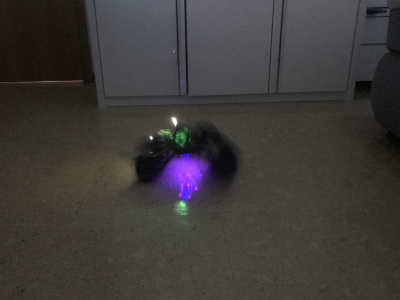remote control car: (130, 116, 244, 186)
